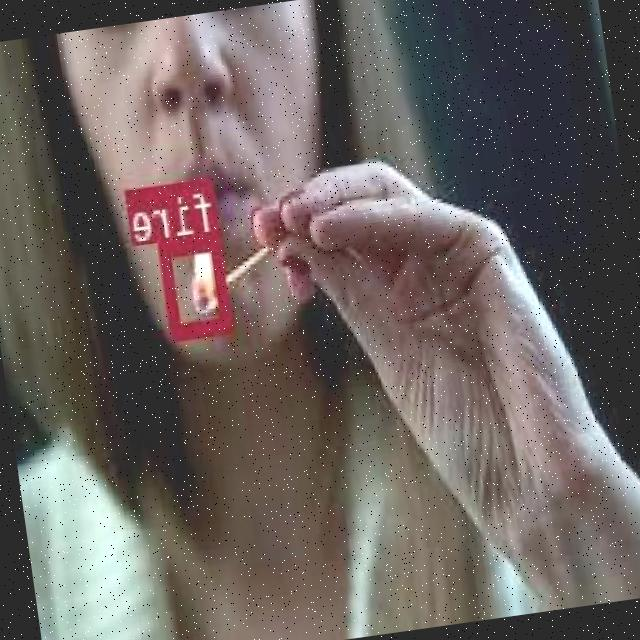fire: (162, 232, 235, 336)
